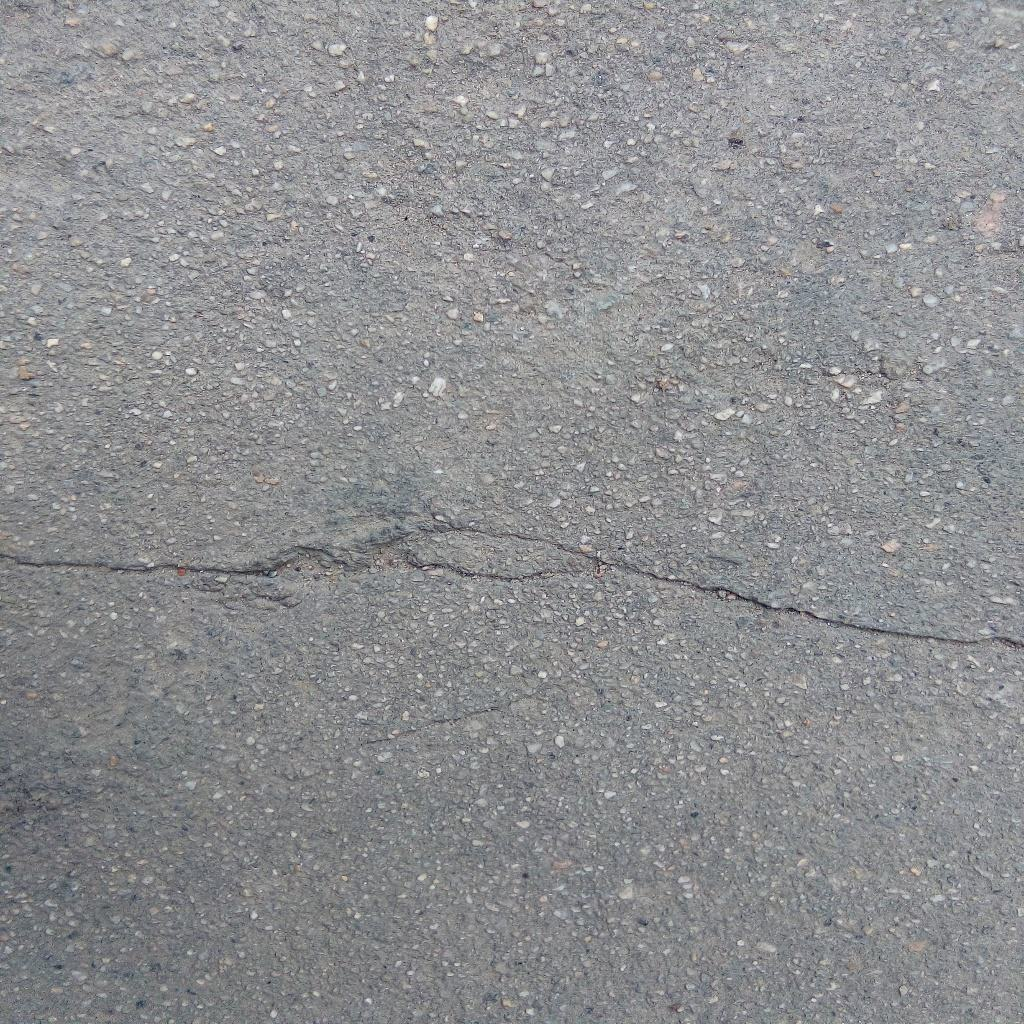Crack: (1, 522, 1024, 648)
